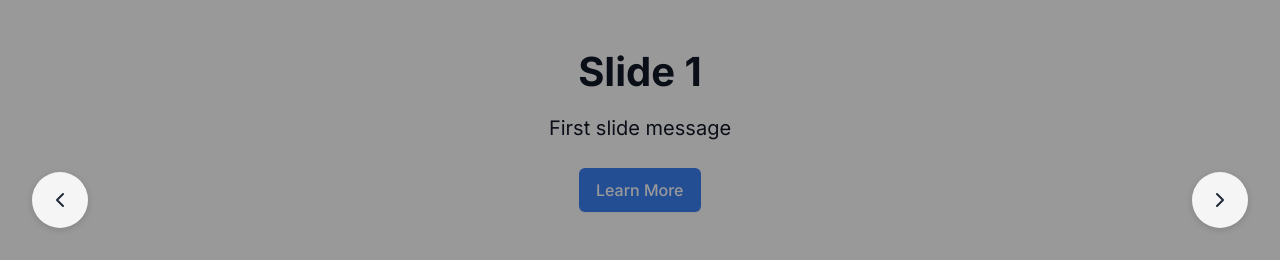
BannerSlider Component › Navigation Arrows › should navigate to next slide when next arrow is clicked
Click the button with test id "banner-slider-next".
click(1220, 200)  # box [1192, 172, 1248, 228]
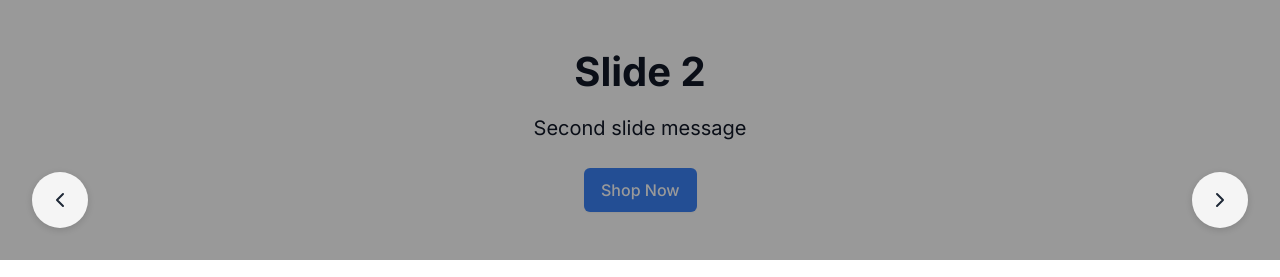
Check: the heading "Slide 2" is shown, box [574, 48, 706, 96]
